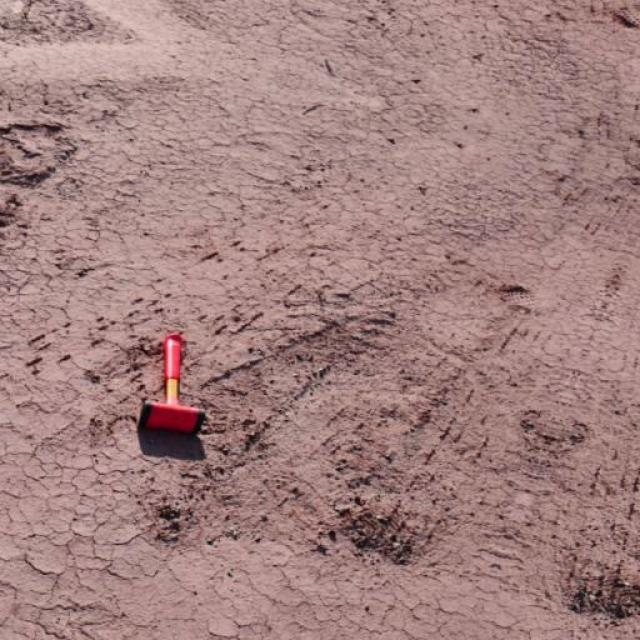mallet: (136, 331, 205, 435)
